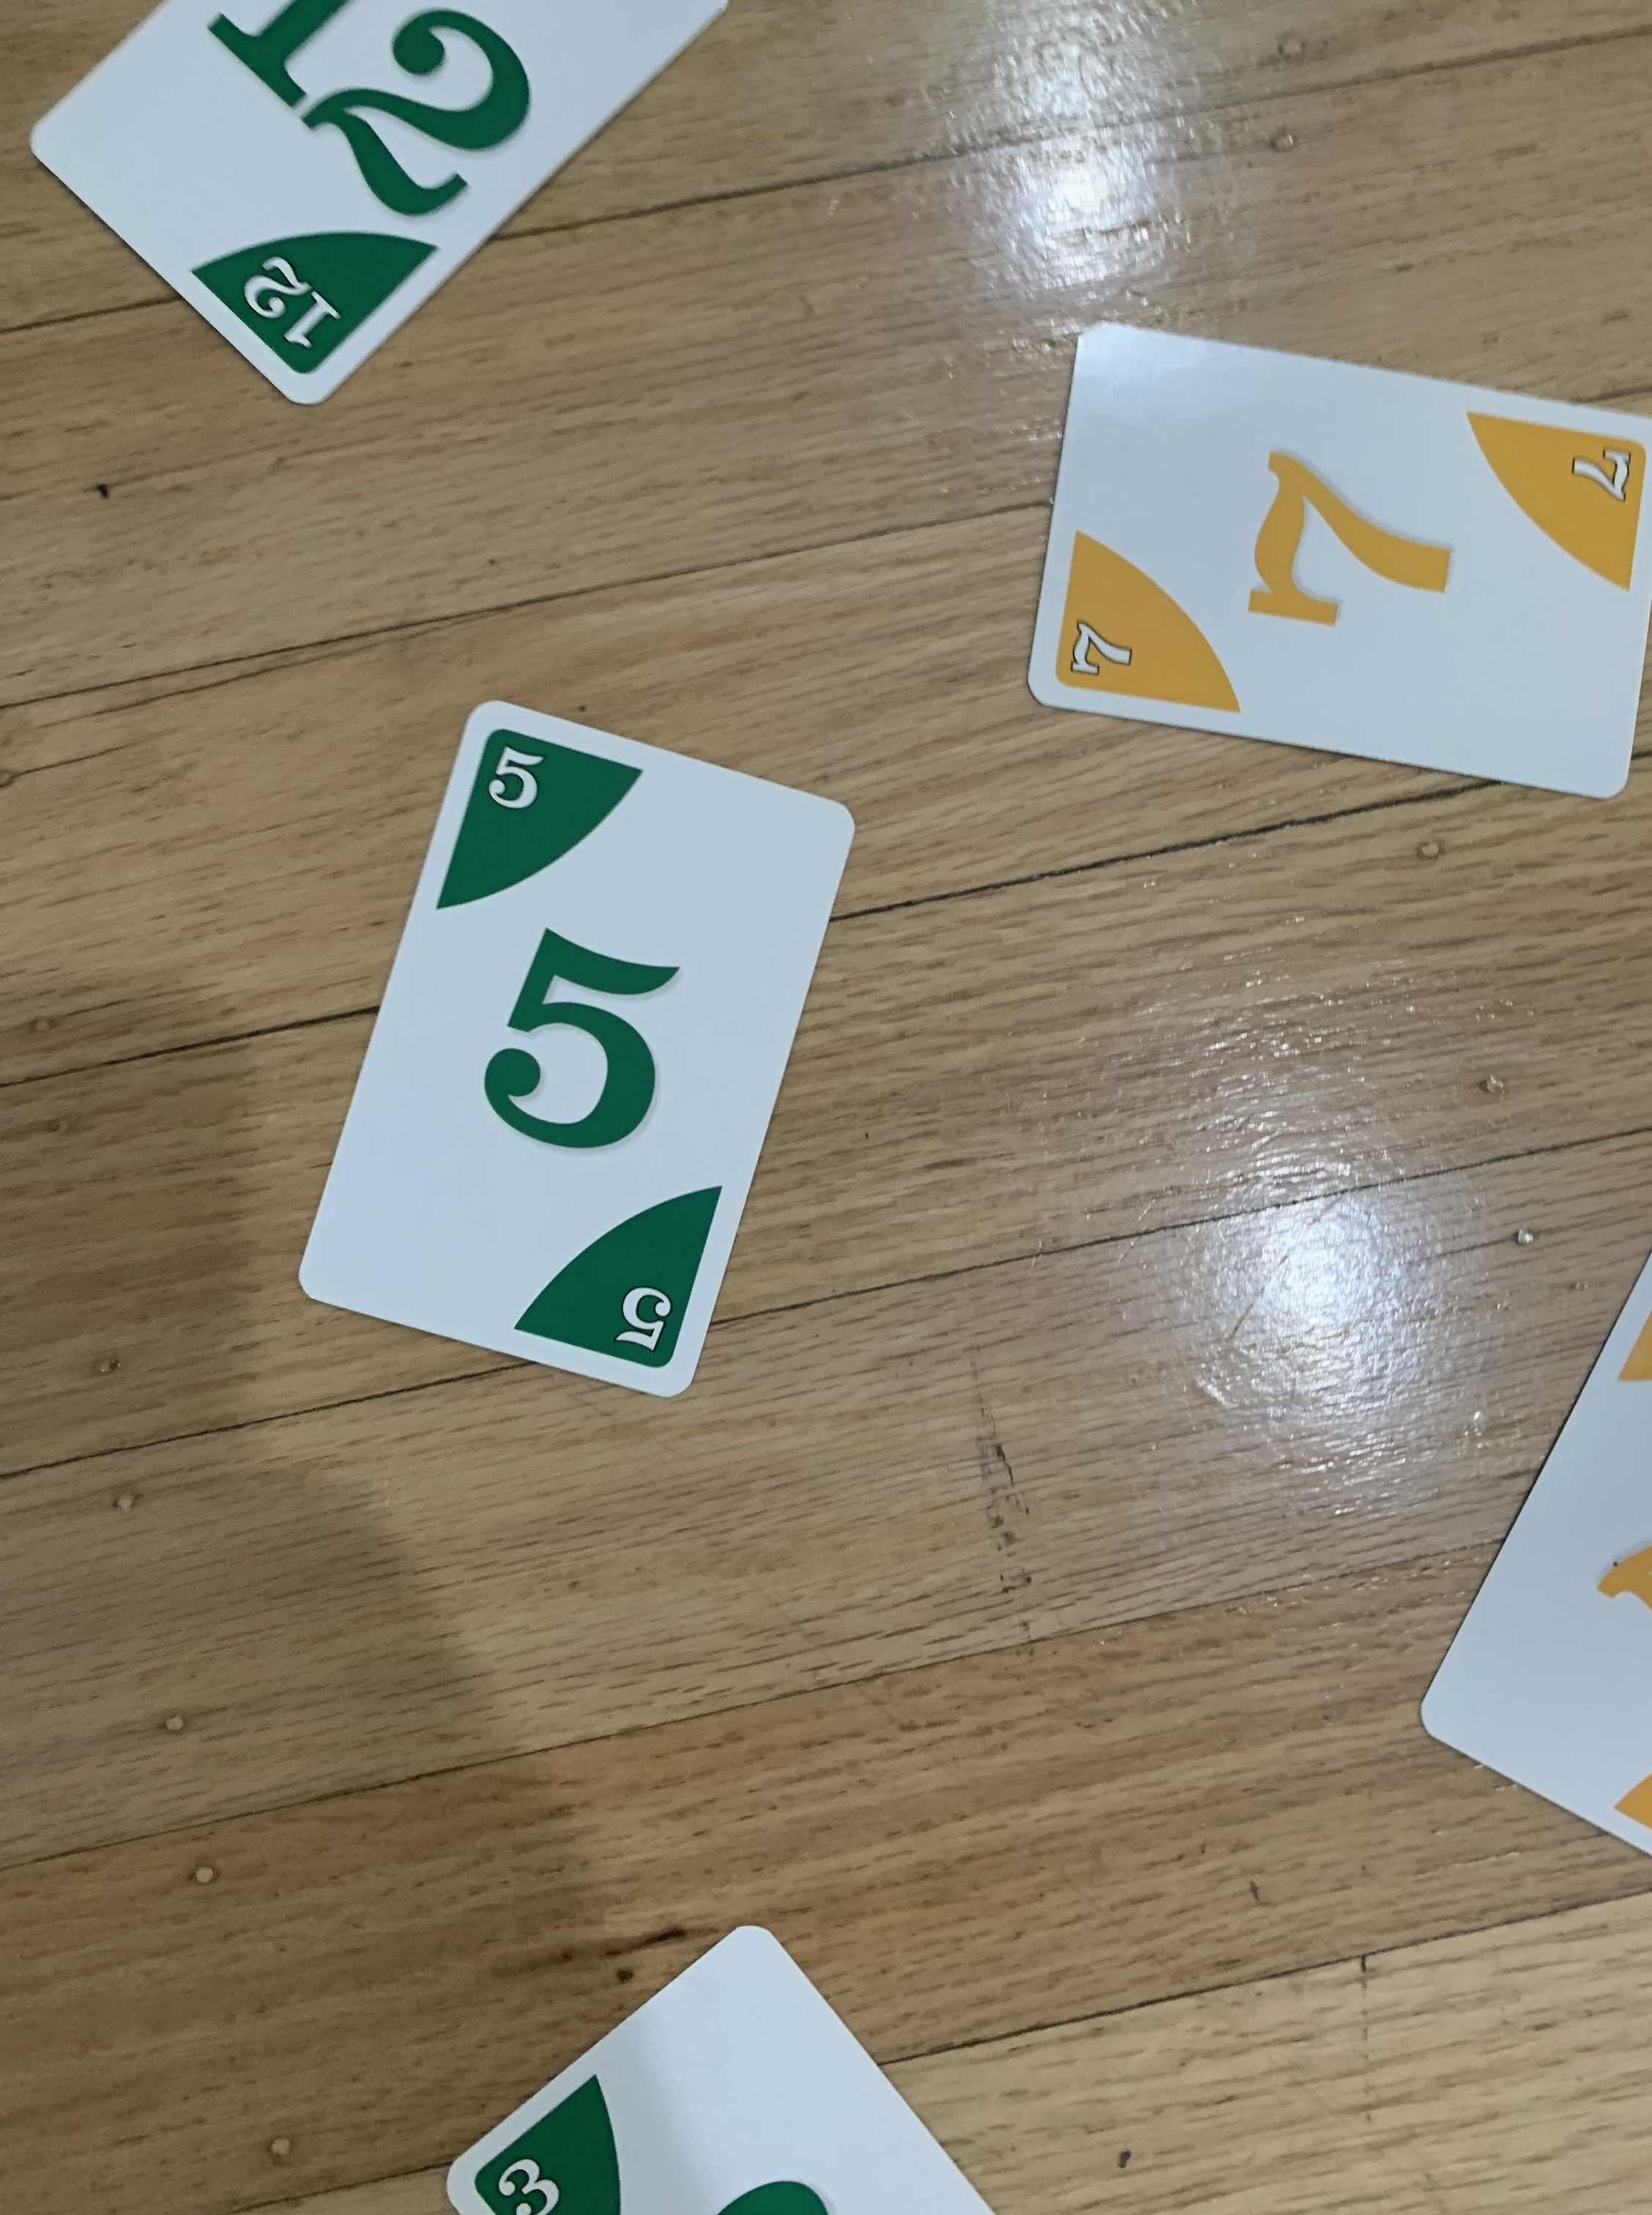five: (285, 696, 864, 1408)
seven: (1010, 312, 1652, 807)
twelve: (24, 5, 739, 422)
